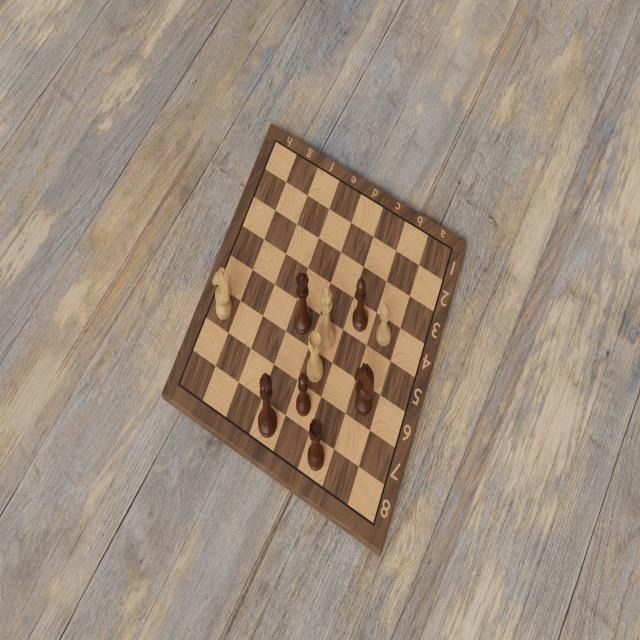black-bishop: (352, 275, 372, 337)
black-king: (256, 369, 279, 443)
black-knight: (351, 362, 374, 422)
black-pawn: (294, 371, 314, 420)
black-queen: (292, 268, 312, 336)
black-rook: (305, 418, 326, 476), (303, 329, 323, 387)
white-king: (315, 284, 335, 352)
white-knight: (212, 266, 235, 324)
white-pawn: (375, 299, 393, 349)
